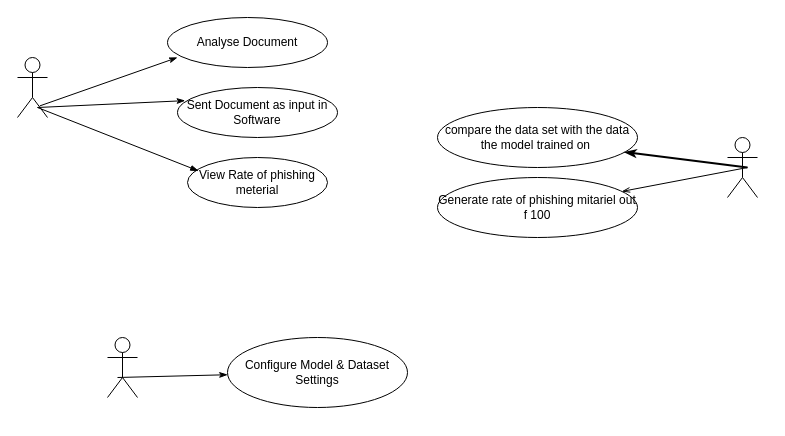
Image size: 785x436. Some labels were removed from this diagram. The shapes that lost their labels are listed below. From the top down, each one's box as (x1, y1, x2, y2) in pixels, then its label:
(16, 56, 48, 118): User
(726, 136, 758, 198): Evaluater
(106, 336, 138, 398): Admin
